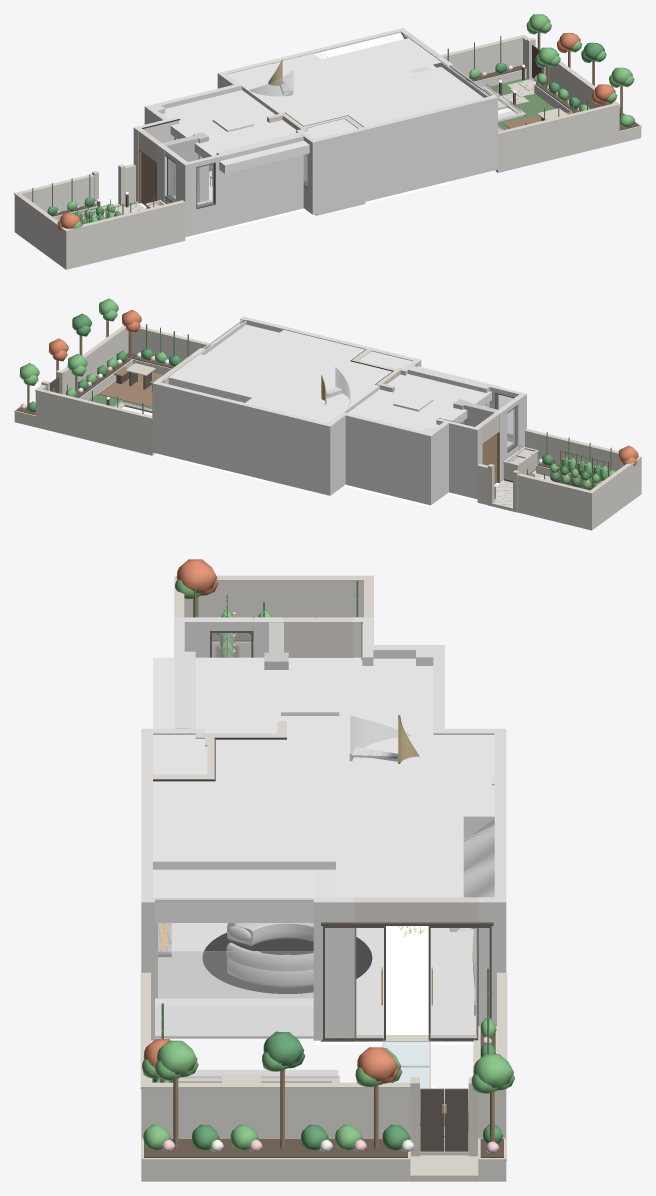
The picture shows the model from 3 angles, top to bottom: view 1: azimuth 30°, elevation 25°; view 2: azimuth 150°, elevation 25°; view 3: azimuth 270°, elevation 25°; orthographic projection. The views are drawn at different scales.
Parts seen in each view (by area): view 1: 1F_Plan_Walls_Manifold, 1F_FrontGarden_Wall_S, 1F_BackGarden_Wall_S, 1F_Living_Ceiling_FlatW, 1F_Living_Ceiling_WaveShell, 1F_Living_Ceiling_BorderS, 1F_Living_Ceiling_DiningWell_S, 1F_Living_Ceiling_DiningWell_N, 1F_BackGarden_Wall_W, 1F_FrontGarden_Wall_N, 1F_Kaspar_Ceiling_FlatPlate, 1F_BackGarden_Wall_NW (+17 smaller); view 2: 1F_Plan_Walls_Manifold, 1F_Living_Ceiling_WaveShell, 1F_FrontGarden_Wall_N, 1F_Living_Ceiling_FlatW, 1F_Living_Ceiling_BorderS, 1F_BackGarden_Wall_NW, 1F_BackGarden_Wall_W, 1F_Living_Ceiling_DiningWell_S, 1F_BackGarden_Wall_S, 1F_Living_Ceiling_DiningWell_N, 1F_Kaspar_Ceiling_FlatPlate, 1F_FrontGarden_Wall_S (+15 smaller); view 3: 1F_Plan_Walls_Manifold, 1F_VentShaft_EastGlass, 1F_Living_Ceiling_FlatW, 1F_Living_Ceiling_WaveShell, 1F_Living_Ceiling_BorderS, 1F_Slab_Living_North, 1F_FrontGarden_Wall_ES, 1F_Living_Ceiling_DiningWell_S, 1F_VentShaft_Glass_Balustrade, 1F_Living_Ceiling_DiningWell_N, 1F_Front_Entry_Door_LeafS_Glass, 1F_Kaspar_Ceiling_FlatPlate (+36 smaller).
Part boxes in pixels (bbox=[...]): 1F_Plan_Walls_Manifold: bbox=[133, 28, 497, 237]; 1F_FrontGarden_Wall_S: bbox=[495, 107, 615, 172]; 1F_BackGarden_Wall_S: bbox=[70, 203, 185, 268]; 1F_Living_Ceiling_FlatW: bbox=[227, 62, 367, 138]; 1F_Living_Ceiling_WaveShell: bbox=[288, 38, 440, 91]; 1F_Living_Ceiling_BorderS: bbox=[321, 72, 448, 125]; 1F_Living_Ceiling_DiningWell_S: bbox=[194, 120, 309, 173]; 1F_Living_Ceiling_DiningWell_N: bbox=[162, 90, 267, 138]; 1F_BackGarden_Wall_W: bbox=[14, 195, 69, 269]; 1F_FrontGarden_Wall_N: bbox=[444, 39, 522, 78]; 1F_Kaspar_Ceiling_FlatPlate: bbox=[408, 67, 483, 106]; 1F_BackGarden_Wall_NW: bbox=[22, 177, 94, 212]; 1F_Plan_Walls_Manifold: bbox=[152, 316, 526, 505]; 1F_Living_Ceiling_WaveShell: bbox=[168, 354, 315, 405]; 1F_FrontGarden_Wall_N: bbox=[39, 392, 154, 455]; 1F_Living_Ceiling_FlatW: bbox=[278, 349, 412, 422]; 1F_Living_Ceiling_BorderS: bbox=[238, 330, 361, 381]; 1F_BackGarden_Wall_NW: bbox=[517, 476, 587, 529]; 1F_BackGarden_Wall_W: bbox=[588, 458, 641, 530]; 1F_Living_Ceiling_DiningWell_S: bbox=[387, 366, 499, 417]; 1F_BackGarden_Wall_S: bbox=[525, 432, 623, 471]; 1F_Living_Ceiling_DiningWell_N: bbox=[348, 398, 454, 430]; 1F_Kaspar_Ceiling_FlatPlate: bbox=[205, 324, 278, 362]; 1F_FrontGarden_Wall_S: bbox=[128, 329, 208, 361]; 1F_Plan_Walls_Manifold: bbox=[141, 617, 506, 1040]; 1F_VentShaft_EastGlass: bbox=[155, 902, 313, 1035]; 1F_Living_Ceiling_FlatW: bbox=[153, 735, 494, 785]; 1F_Living_Ceiling_WaveShell: bbox=[336, 785, 463, 897]; 1F_Living_Ceiling_BorderS: bbox=[153, 785, 335, 869]; 1F_Slab_Living_North: bbox=[336, 932, 475, 1044]; 1F_FrontGarden_Wall_ES: bbox=[141, 1089, 410, 1138]; 1F_Living_Ceiling_DiningWell_S: bbox=[153, 657, 285, 733]; 1F_VentShaft_Glass_Balustrade: bbox=[155, 951, 313, 998]; 1F_Living_Ceiling_DiningWell_N: bbox=[334, 657, 433, 734]; 1F_Front_Entry_Door_LeafS_Glass: bbox=[325, 928, 383, 1037]; 1F_Kaspar_Ceiling_FlatPlate: bbox=[153, 869, 335, 922].
Bounding box in the file's own units: 26 × 4.39 × 7.72.
80 materials, 11 textured.
